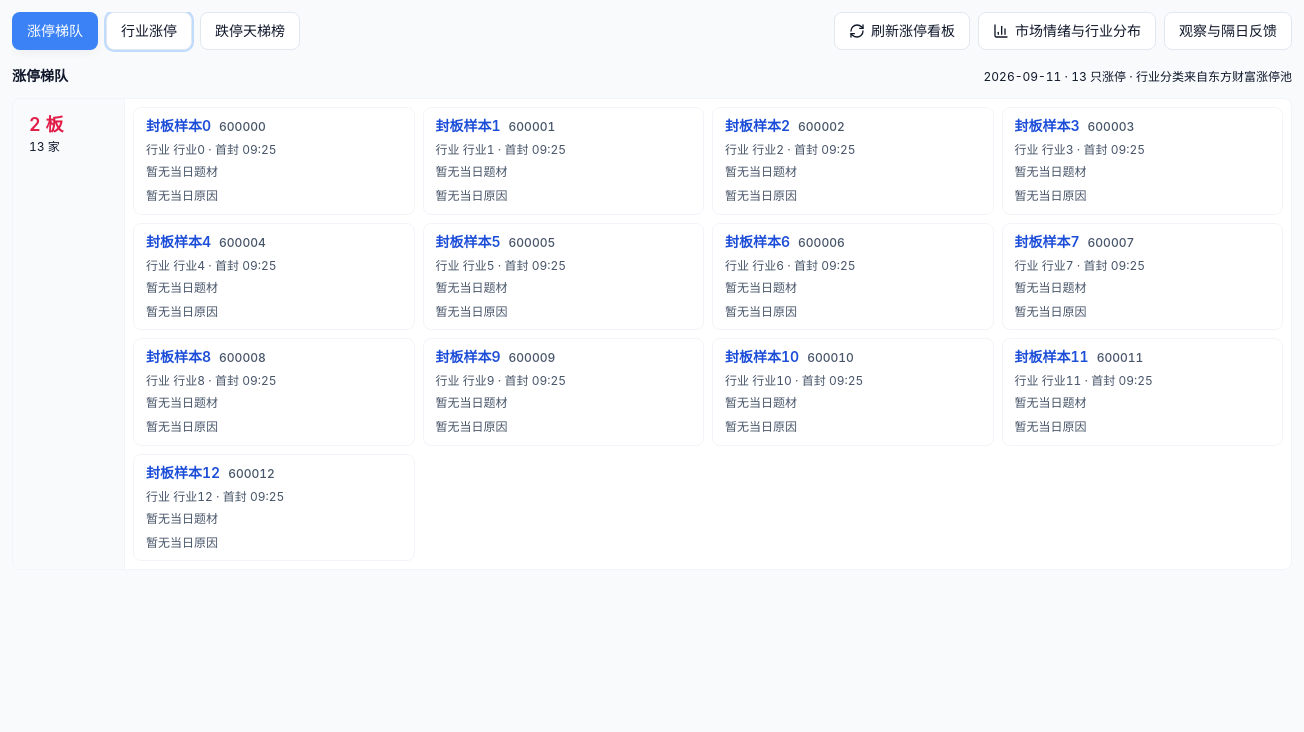
Test: LimitUpBoardPanel independent breadth loading › pages thirteen industries as six, six and one without reloading data or shrinking the content frame
Step 1. Click the button "行业涨停" → coordinates (149, 31), box [106, 12, 192, 50]
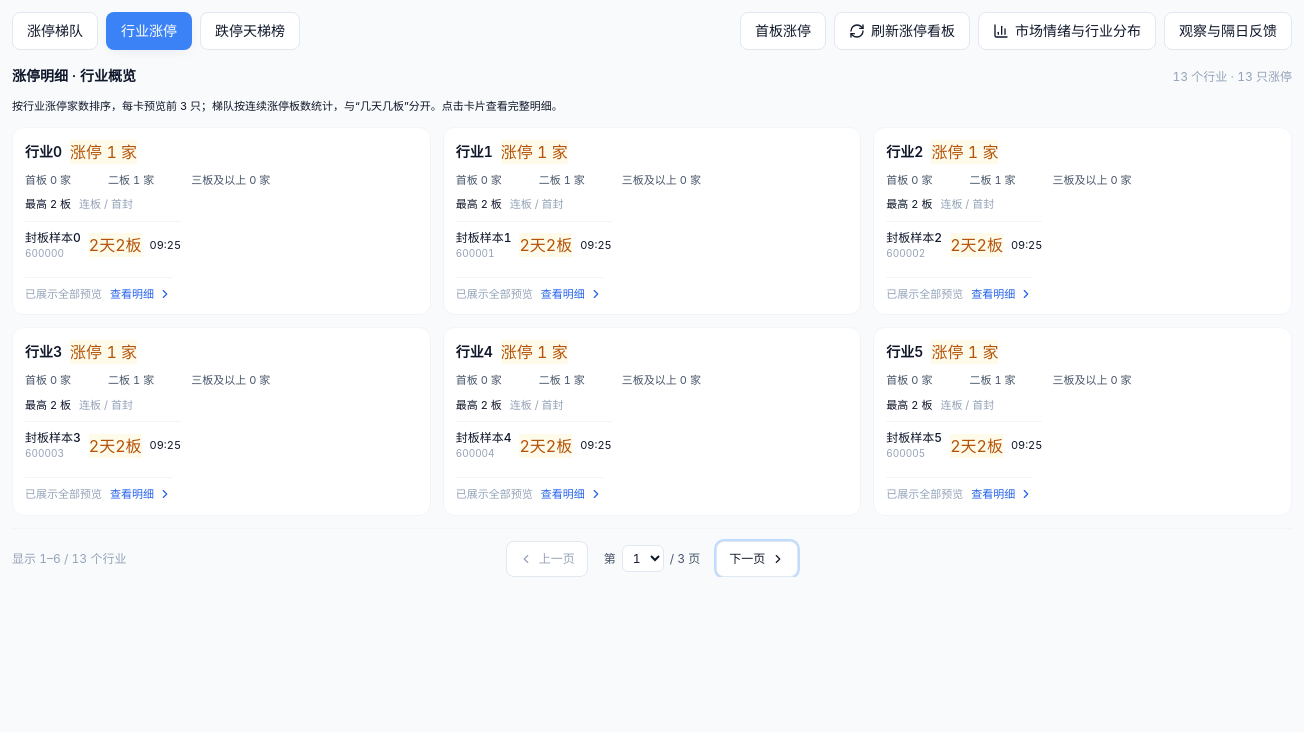
Check: the button with aria-label "查看行业0涨停明细" shows "封板样本0", box [12, 126, 431, 315]
Check: the button with aria-label "上一页" is disabled, box [506, 540, 588, 576]
Check: the button "下一页" is shown
Step 2. Click the button "下一页" → coordinates (757, 558), box [716, 540, 798, 576]
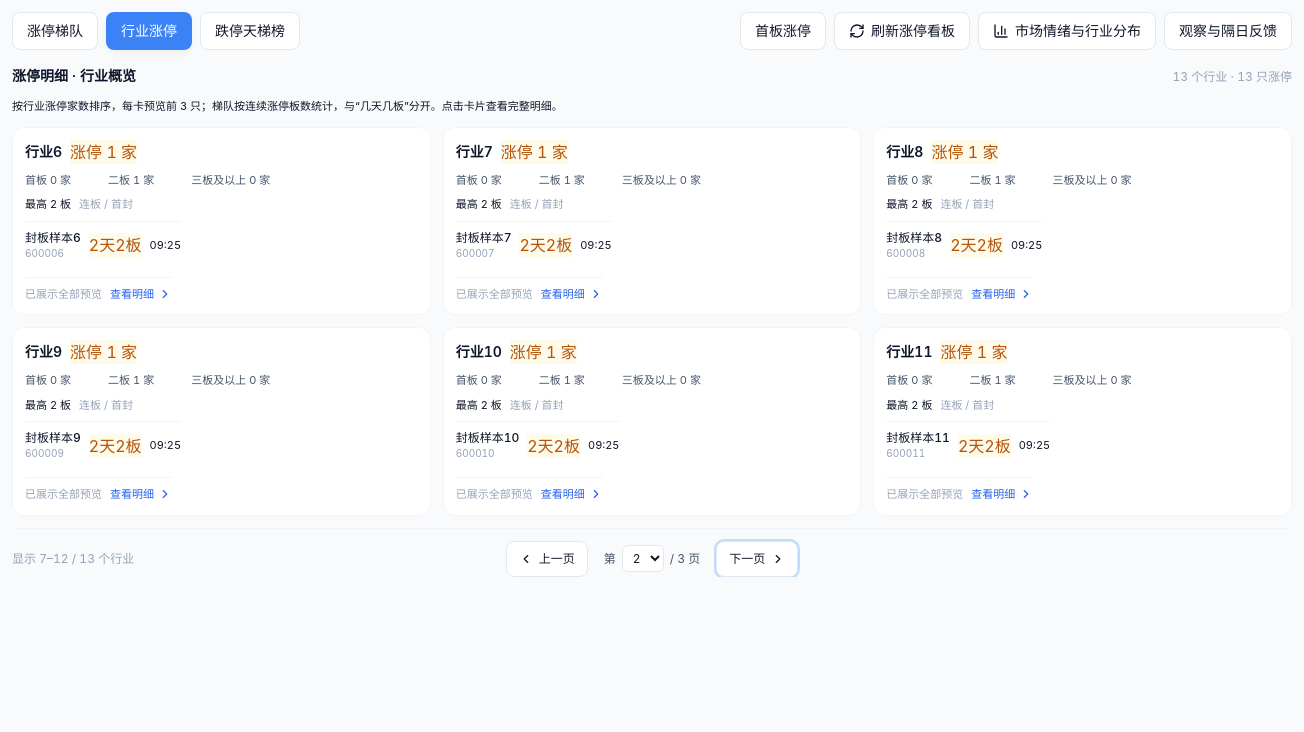
Check: the dropdown named "跳转页码" is shown
Check: the button with aria-label "查看行业6涨停明细" shows "封板样本6", box [12, 126, 431, 315]
Step 3. Select "3" in the dropdown named "跳转页码" → coordinates (643, 558), box [622, 545, 664, 572]
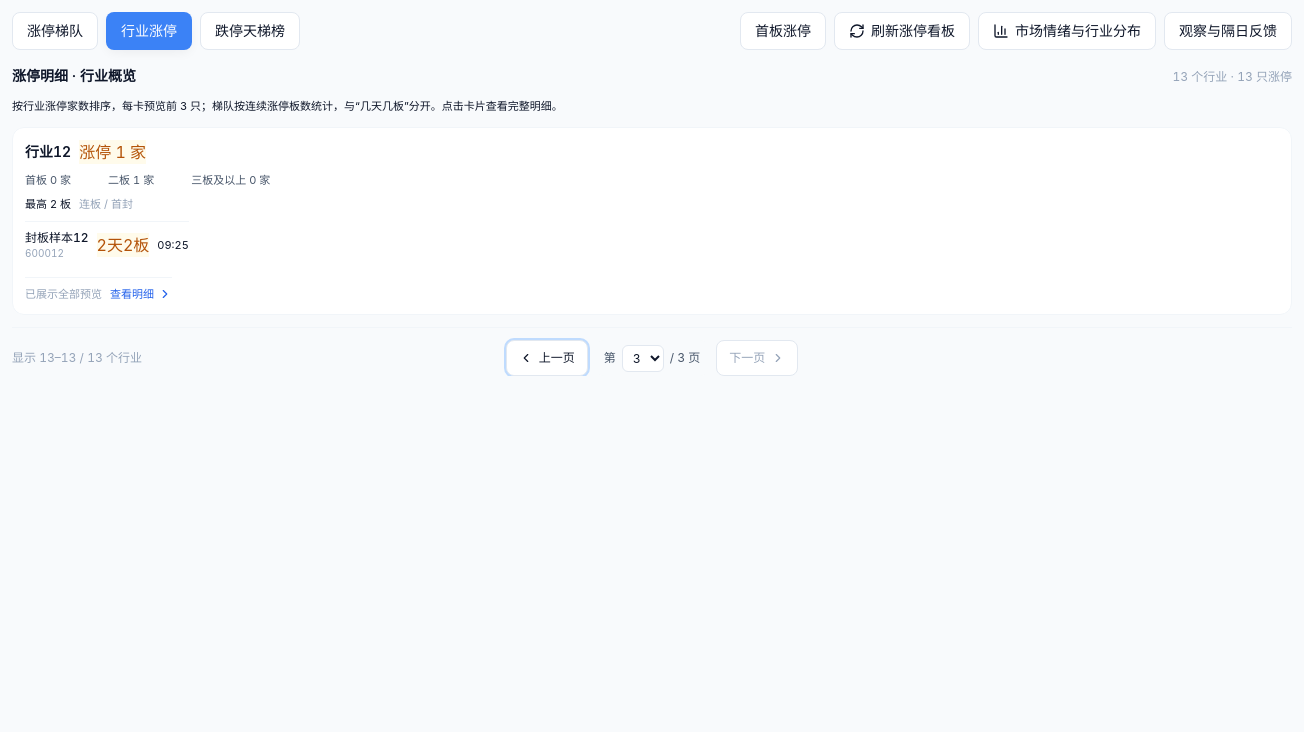
Check: the button "上一页" is shown
Check: the button with aria-label "查看行业12涨停明细" shows "封板样本12", box [12, 126, 1292, 315]
Check: the button "下一页" is disabled, box [716, 340, 798, 376]
Step 4. Click the button "上一页" → coordinates (547, 358), box [506, 340, 588, 376]
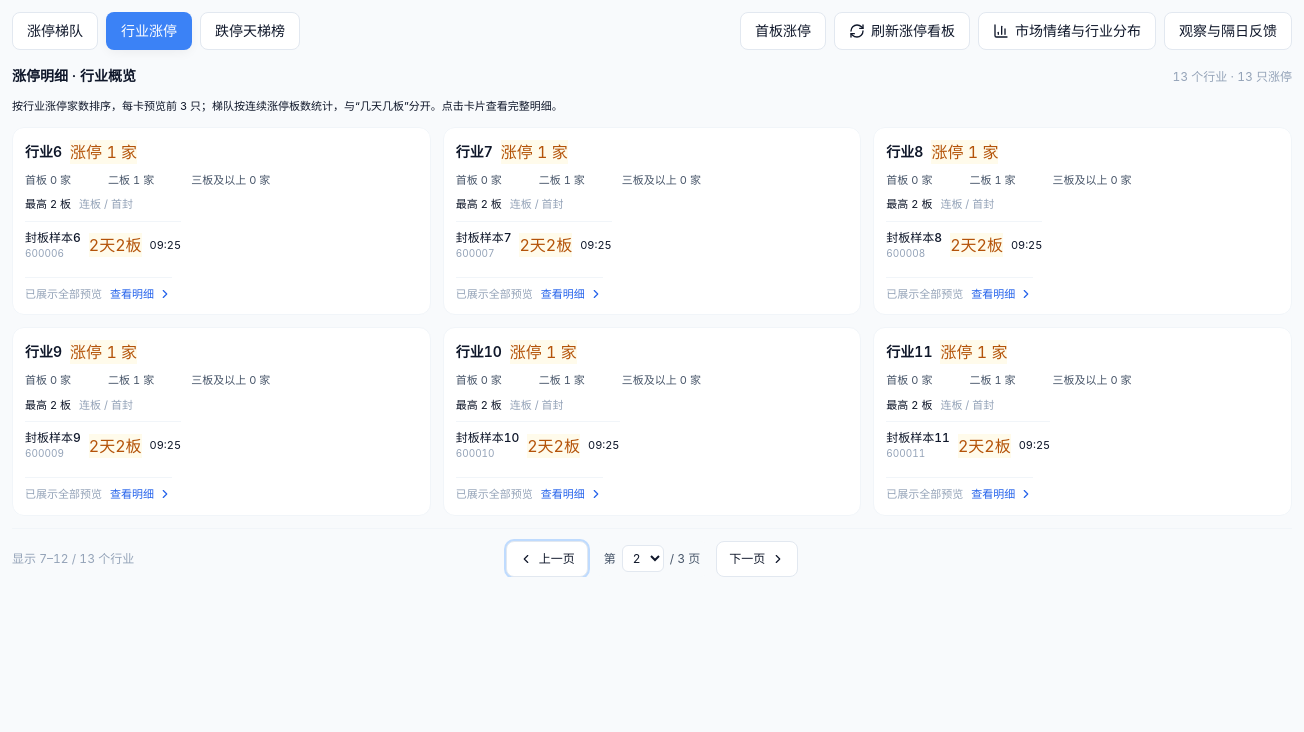
Check: the button with aria-label "查看行业6涨停明细" shows "封板样本6", box [12, 126, 431, 315]
